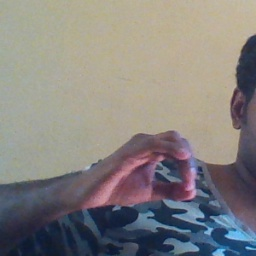O: (91, 126, 202, 215)
